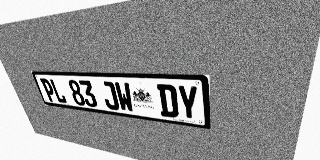3: (78, 80, 98, 108)
8: (67, 80, 86, 106)
D: (157, 84, 179, 118)
J: (99, 81, 120, 111)
L: (49, 79, 67, 104)
P: (40, 78, 58, 102)
W: (114, 82, 135, 112)
Y: (176, 85, 199, 121)
